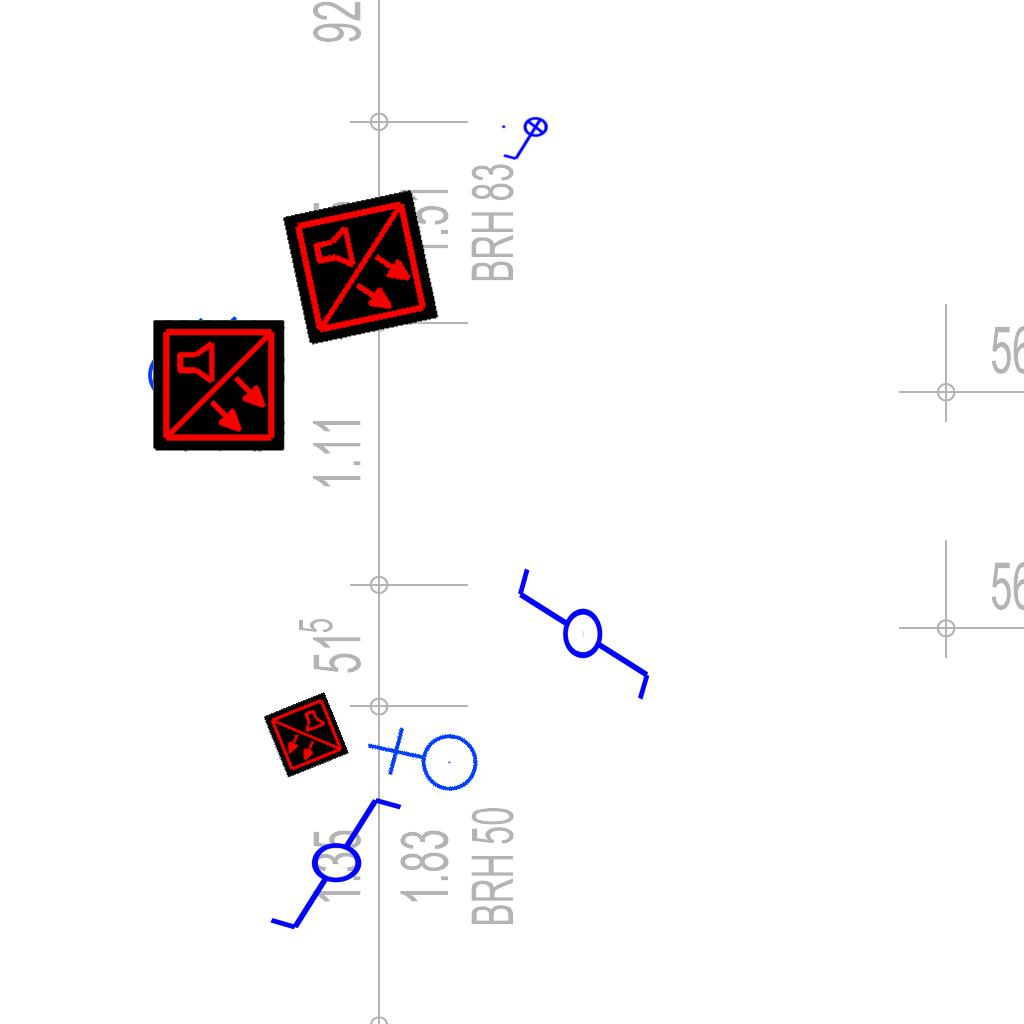Ausschalter_beleuchtet: (499, 116, 555, 164)
Elektroanschluss_allgemein_230V_Geraeteanschlussdose_230V: (361, 694, 496, 830), (139, 311, 238, 405)
OKW_Multisensormelder_(Kombination_optischer_Rauch-Kahlenmonoxid_Waerme-Melder): (282, 189, 440, 347), (153, 320, 285, 452), (263, 692, 349, 778)
Wechselschalter: (513, 547, 657, 704), (266, 793, 423, 937)
